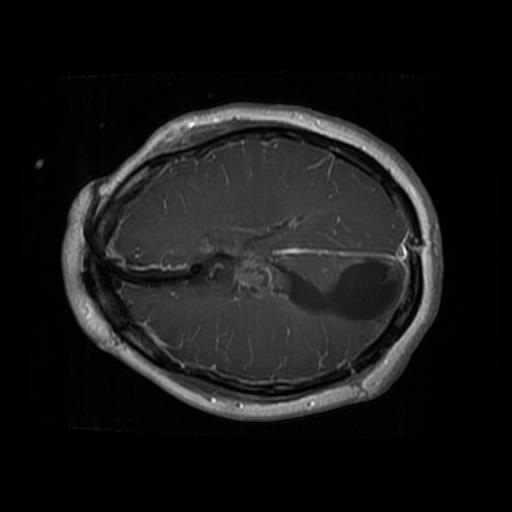glioma: (112, 236, 404, 325)
